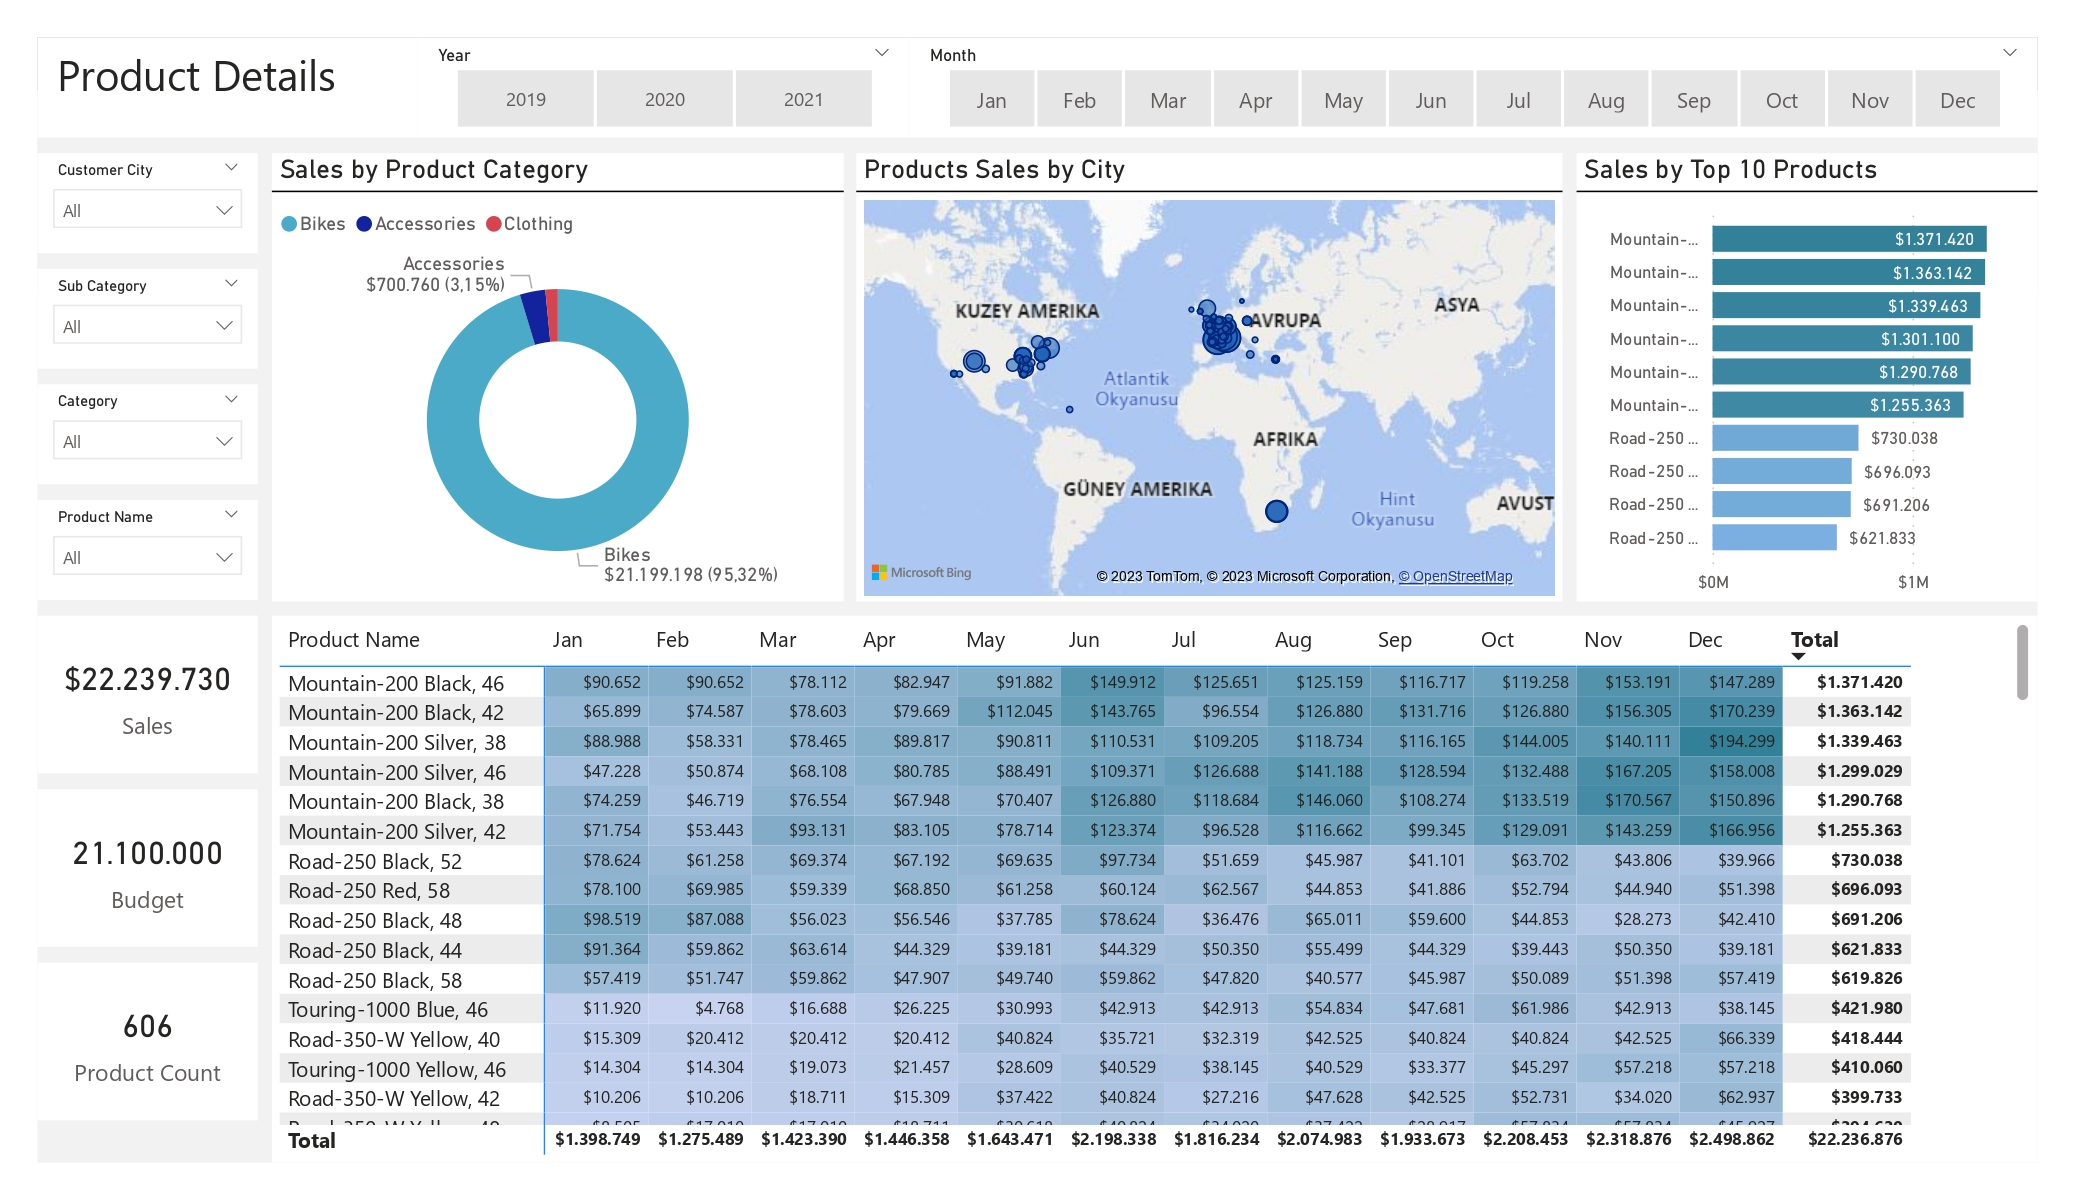

What the dashboard file says about the page in this screenshot:
{"tool":"powerbi","page":{"name":"Product Details","canvas":[1280,720],"ordinal":2},"visuals":[{"type":"textbox","box":[0,0,242.7,63.6],"z":0},{"type":"slicer","fields":{"Values":["DIM_Customers.Customer City"]},"box":[0,74,141,64],"z":1000},{"type":"slicer","fields":{"Values":["DIM_Products.Sub Category"]},"box":[0,148,141,64],"z":2000},{"type":"slicer","fields":{"Values":["DIM_Products.Product Category"]},"box":[0,222,141,64],"z":3000},{"type":"slicer","fields":{"Values":["DIM_Products.Product Name"]},"box":[0,296,141,64],"z":4000},{"type":"slicer","fields":{"Values":["DIM_Calendar.Year"]},"box":[242.7,0,315.2,63.6],"z":5000},{"type":"slicer","fields":{"Values":["DIM_Calendar.MonthShort"]},"box":[557.9,0,721.8,63.6],"z":6000},{"type":"barChart","title":"Sales by Top 10 Products","fields":{"Y":["Ölçüler.Sales"],"Category":["DIM_Products.Product Name"]},"box":[985,74,295,287],"z":7000},{"type":"map","title":"Products Sales by City","fields":{"Size":["Ölçüler.Sales"],"Category":["DIM_Products.Product Name"]},"box":[523.6,73.6,452.7,287.3],"z":8000},{"type":"pivotTable","fields":{"Columns":["DIM_Calendar.MonthShort"],"Values":["Ölçüler.Sales"],"Rows":["DIM_Products.Product Name"]},"box":[150,370,1130,350],"z":9000},{"type":"donutChart","fields":{"Category":["DIM_Products.Product Category"],"Y":["Ölçüler.Sales"]},"box":[150,73.6,366.4,287.3],"z":10000},{"type":"card","fields":{"Values":["All Measures.Sales"]},"box":[0,370,141,101],"z":11000},{"type":"card","fields":{"Values":["All Measures.Product Count"]},"box":[0,592,141,101],"z":12000},{"type":"card","fields":{"Values":["All Measures.Budget Amount"]},"box":[0,481,141,101],"z":13000}]}

Visuals, with their boxes on the page's 1280x720 design canvas (x1, y1, x2, y2). These are canvas units, not pixel positions in the 2075x1200 screenshot, which may show the page scaled, cropped or inside an application window:
textbox: [0,0,243,64]
slicer - DIM_Customers.Customer City: [0,74,141,138]
slicer - DIM_Products.Sub Category: [0,148,141,212]
slicer - DIM_Products.Product Category: [0,222,141,286]
slicer - DIM_Products.Product Name: [0,296,141,360]
slicer - DIM_Calendar.Year: [243,0,558,64]
slicer - DIM_Calendar.MonthShort: [558,0,1280,64]
"Sales by Top 10 Products" barChart: [985,74,1280,361]
"Products Sales by City" map: [524,74,976,361]
pivotTable - DIM_Calendar.MonthShort x Ölçüler.Sales: [150,370,1280,720]
donutChart - DIM_Products.Product Category x Ölçüler.Sales: [150,74,516,361]
card - All Measures.Sales: [0,370,141,471]
card - All Measures.Product Count: [0,592,141,693]
card - All Measures.Budget Amount: [0,481,141,582]
